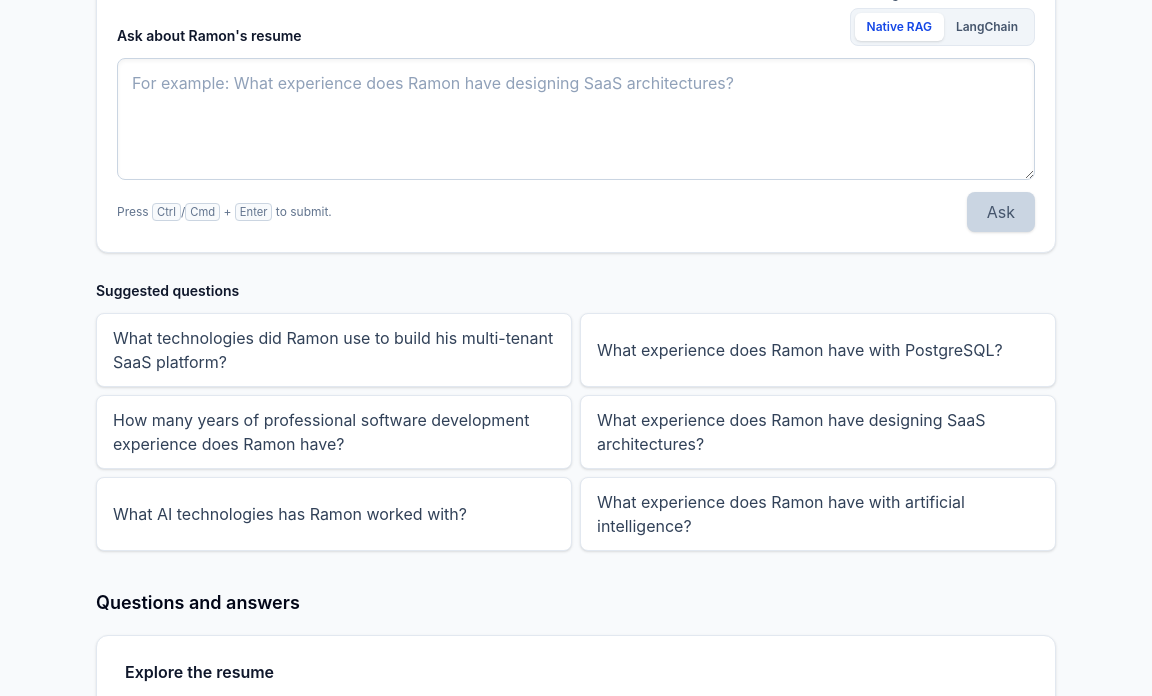
Test case: AI Resume application › renders every source including long filenames and content
(page scrolled)
Click the button "What experience does Ramon have with PostgreSQL?". click: (818, 350)
box: [580, 313, 1056, 387]
(page scrolled)
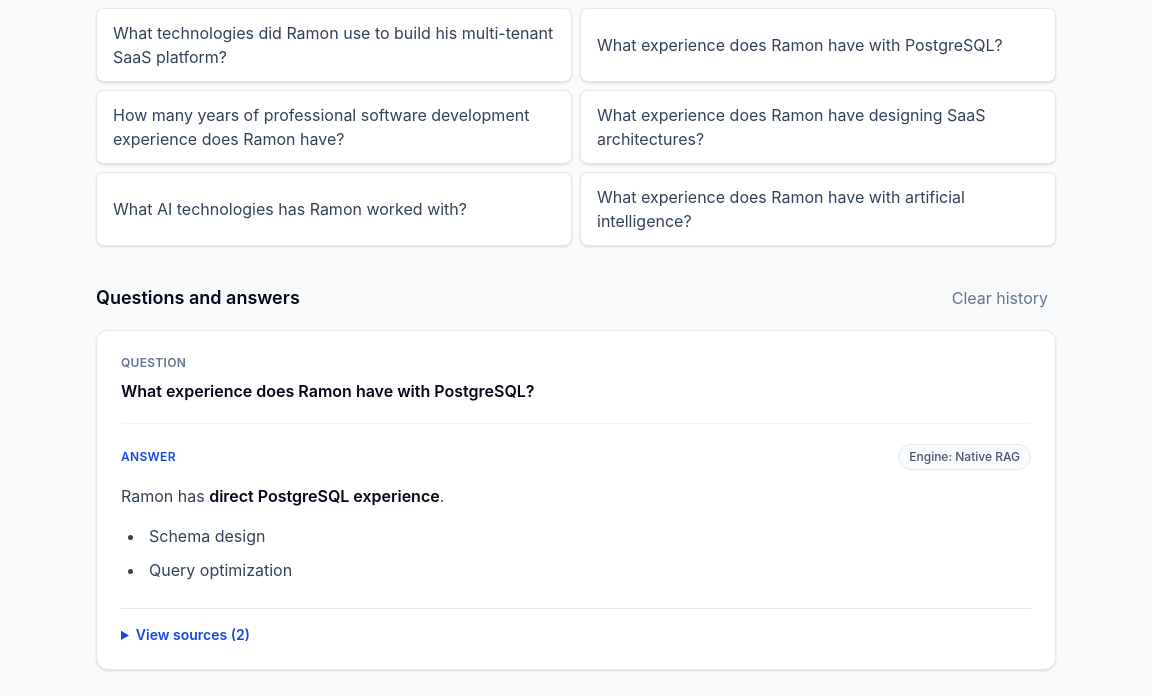
Click the heading "View sources (2)". click: (185, 635)
box: [121, 625, 250, 645]
(page scrolled)
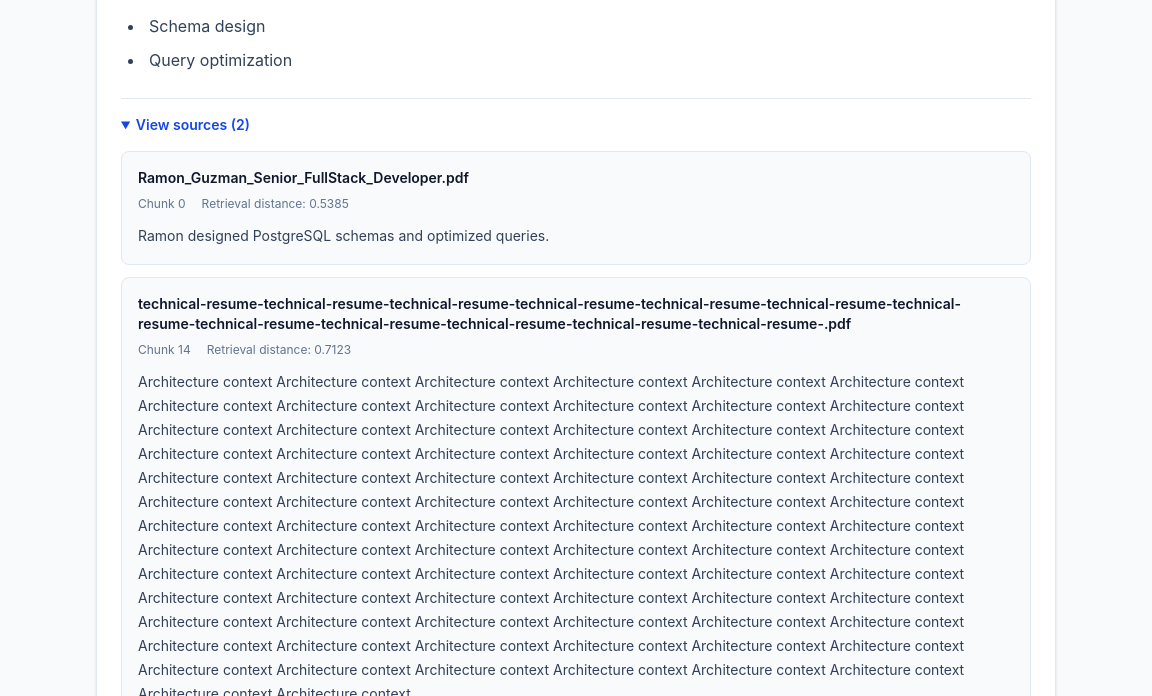
Check: the text "Chunk 14" is shown, box [138, 342, 191, 358]
